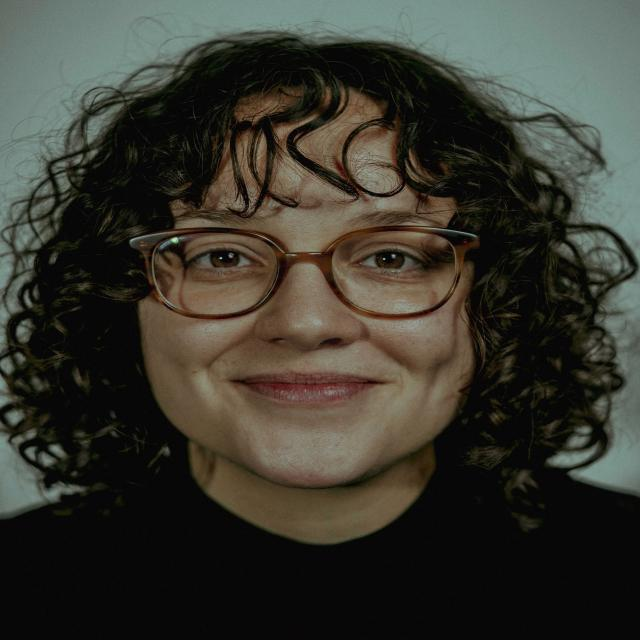adult: (1, 33, 633, 640)
